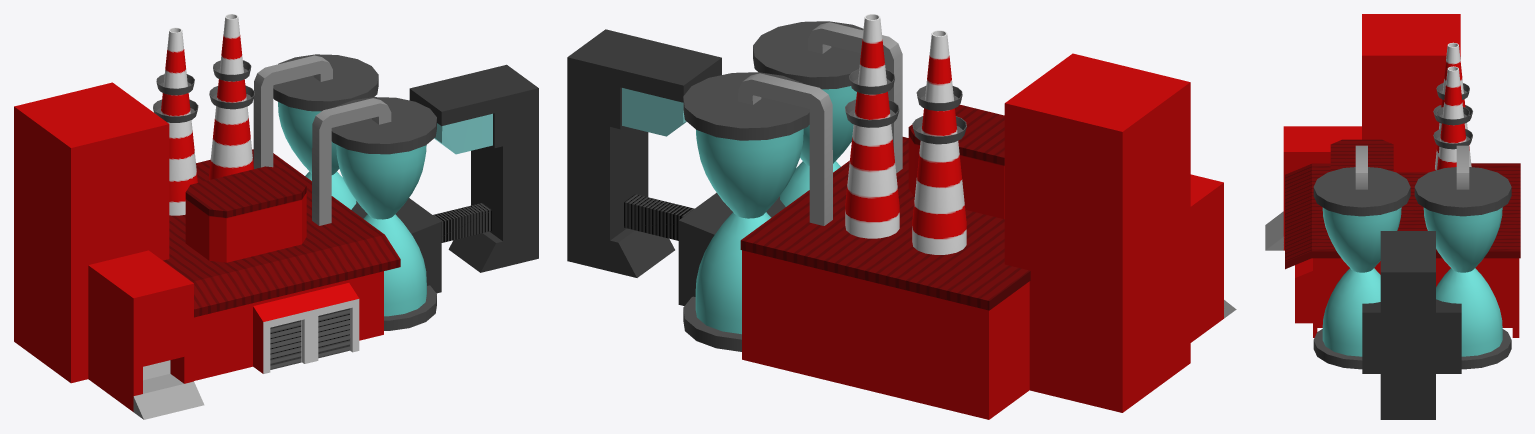
File: fabryczka.fbx
3 renders of one model, left to right at view 1: azimuth 30°, elevation 25°; view 2: azimuth 150°, elevation 25°; view 3: azimuth 270°, elevation 25°, orthographic. The views are drawn at different scales.
Visible parts, largest first — view 1: glowny; view 2: glowny; view 3: glowny.
Part boxes in pixels (<box>): glowny: <box>14,14,538,419</box>; glowny: <box>567,14,1236,419</box>; glowny: <box>1265,14,1520,419</box>.
Bounding box in the file's own units: 4859 × 2677 × 2589.
